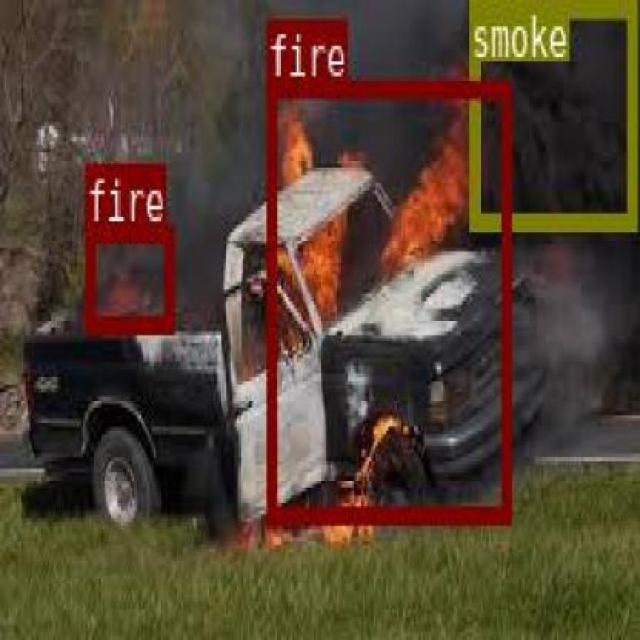Fire: (266, 79, 508, 518), (84, 224, 172, 332)
Smoke: (468, 0, 634, 229)
